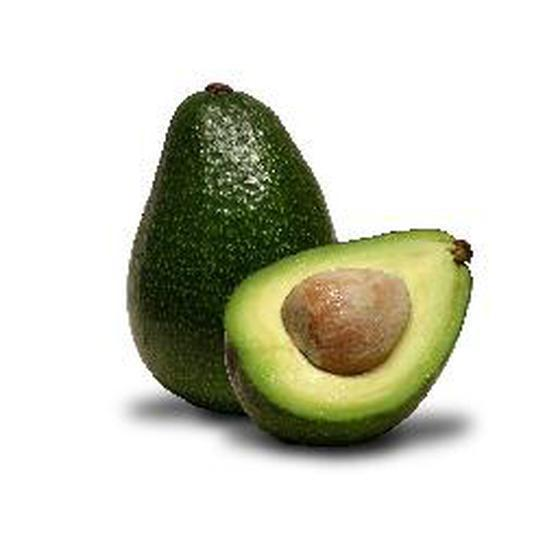avocado: (112, 68, 351, 435)
